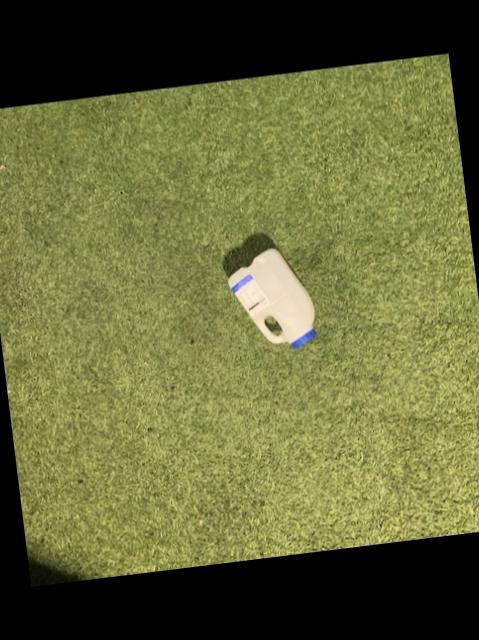plastic: (229, 247, 316, 347)
